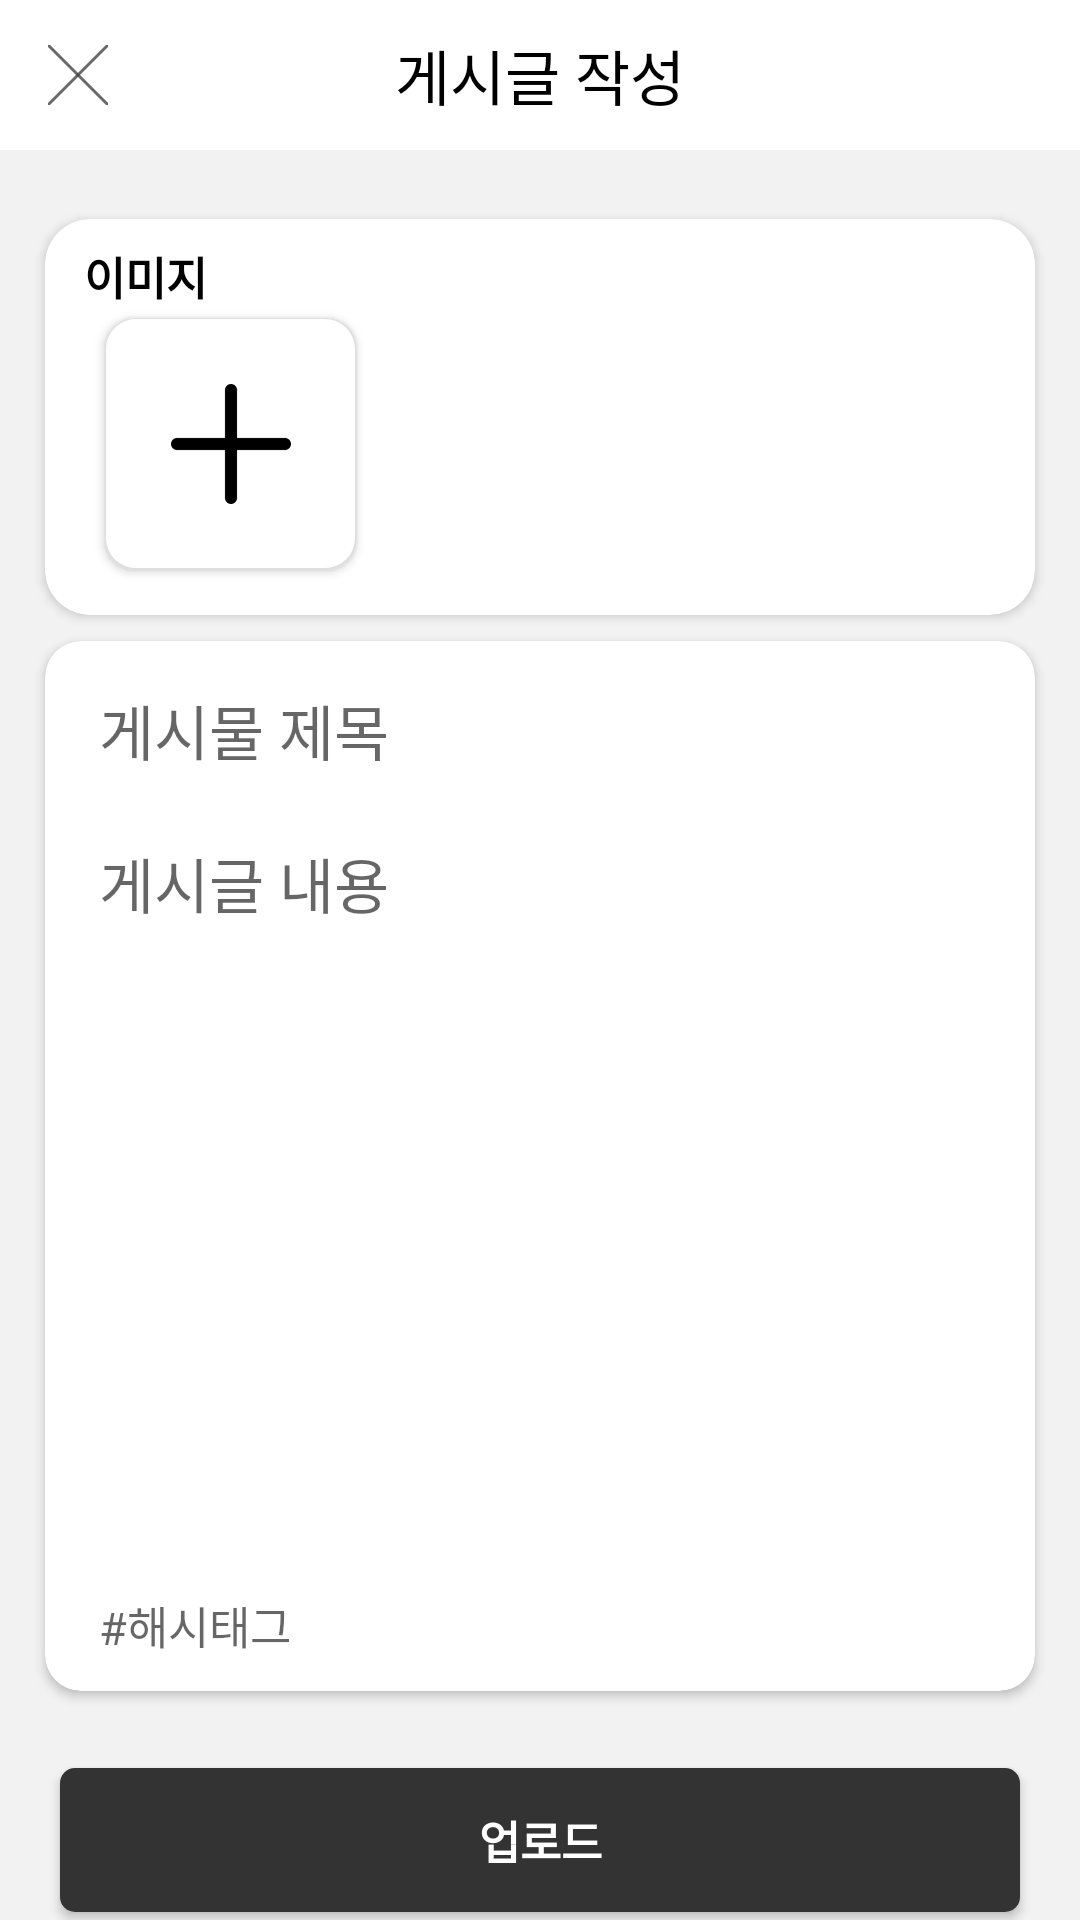

Icons on this 1080 x 1920 Android screen, each with its box as (x1, y1, x2, y2):
add: (106, 319, 355, 568)
